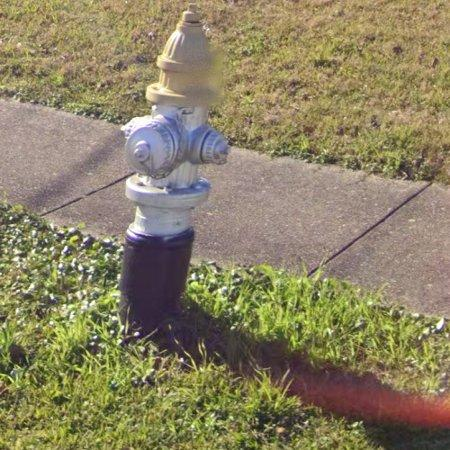a fire hydrant: (120, 4, 229, 333)
